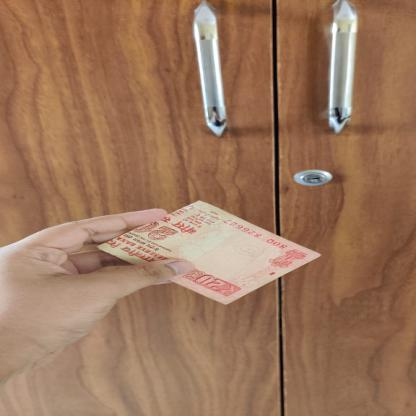Old20Front: (103, 201, 325, 305)
